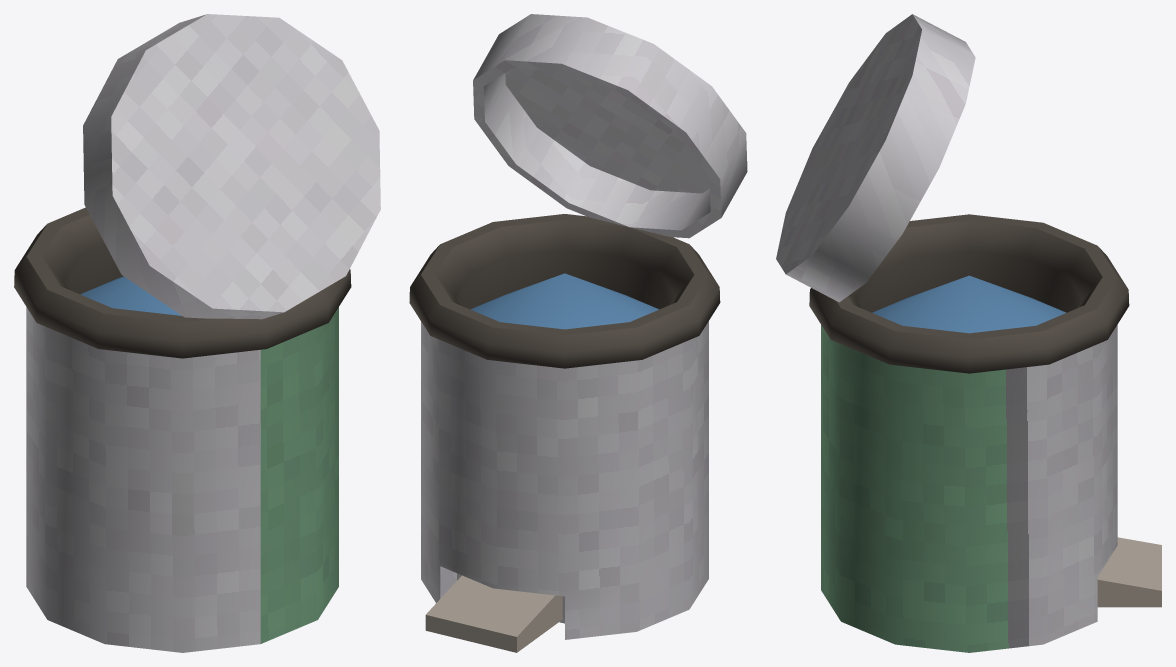
The model's file is Bin_grp.fbx.
3 views of the same model, side by side, from view 1: azimuth 30°, elevation 25°; view 2: azimuth 150°, elevation 25°; view 3: azimuth 270°, elevation 25° (orthographic). The views are drawn at different scales.
Visible parts, largest first — view 1: Bin, Bin_cap, Trash; view 2: Bin, Bin_cap, Trash; view 3: Bin, Bin_cap, Trash.
Part boxes in pixels (box(x1,y1,x2,y2)): Bin: box(14, 207, 351, 652); Bin_cap: box(83, 14, 380, 319); Trash: box(80, 276, 181, 315); Bin: box(409, 214, 720, 652); Bin_cap: box(473, 14, 747, 238); Trash: box(470, 273, 659, 329); Bin: box(809, 214, 1161, 652); Bin_cap: box(776, 14, 975, 302); Trash: box(872, 275, 1066, 333).
Bounding box in the file's own units: 64.75 × 125 × 78.13.
